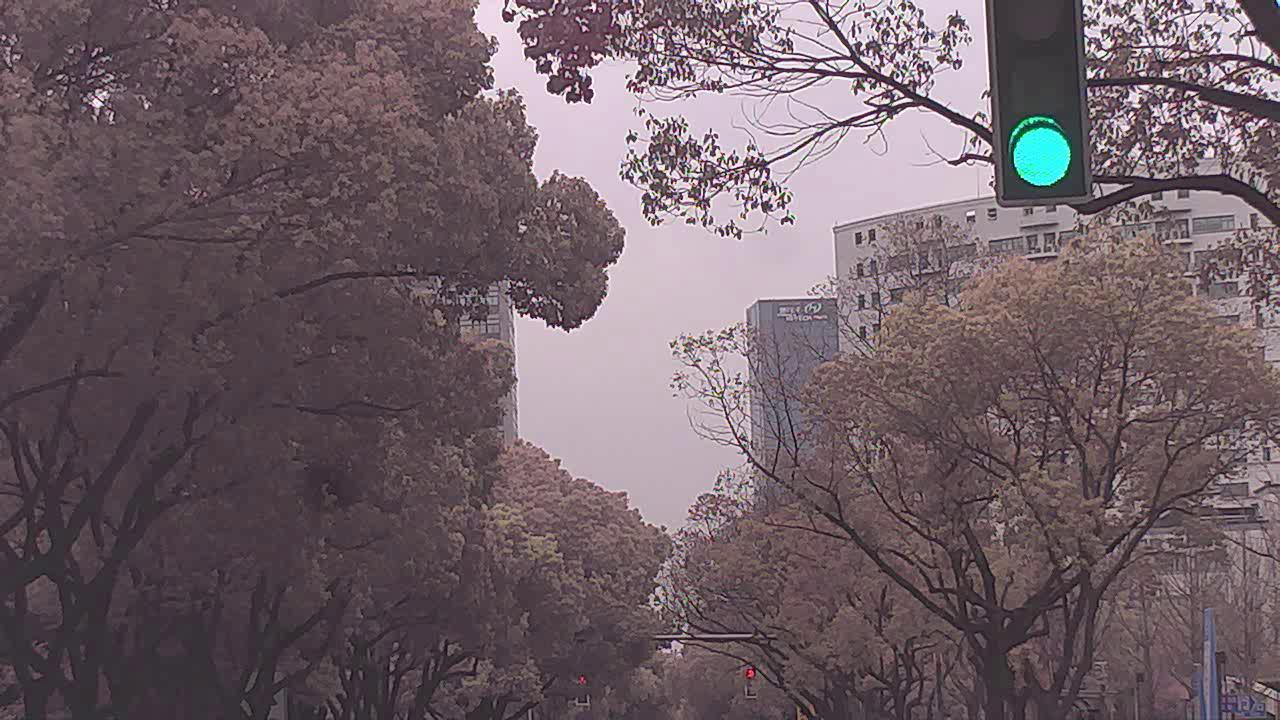traffic_light: (988, 1, 1084, 199)
